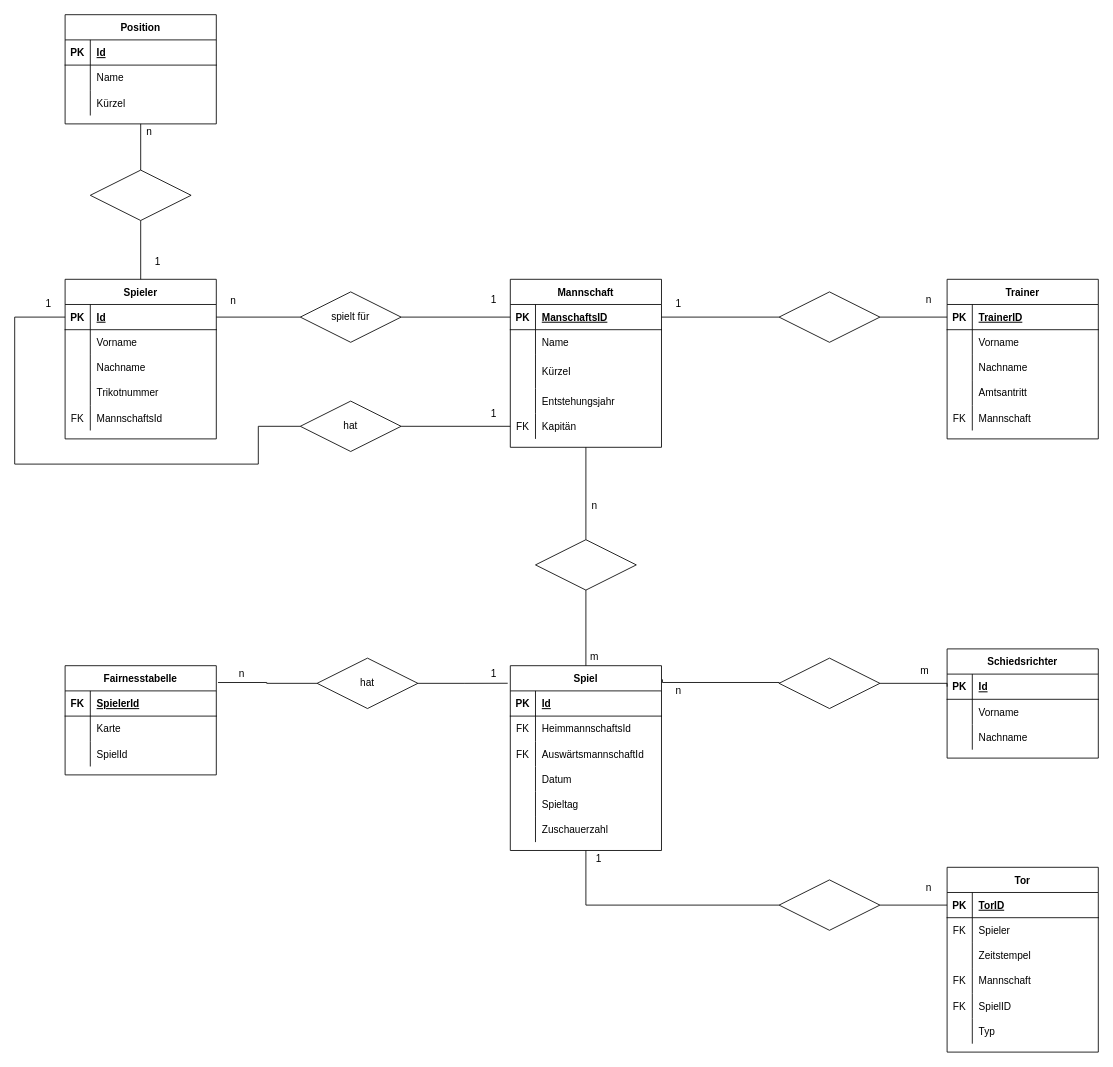
This 1113x1067 diagram has some shape labels left out. Each missing label, with the centre of its shape:
pfeift: (x=829, y=683)
spielt auf: (x=140, y=194)
spielt in: (x=585, y=564)
trainiert: (x=829, y=316)
Trifft: (x=829, y=904)
